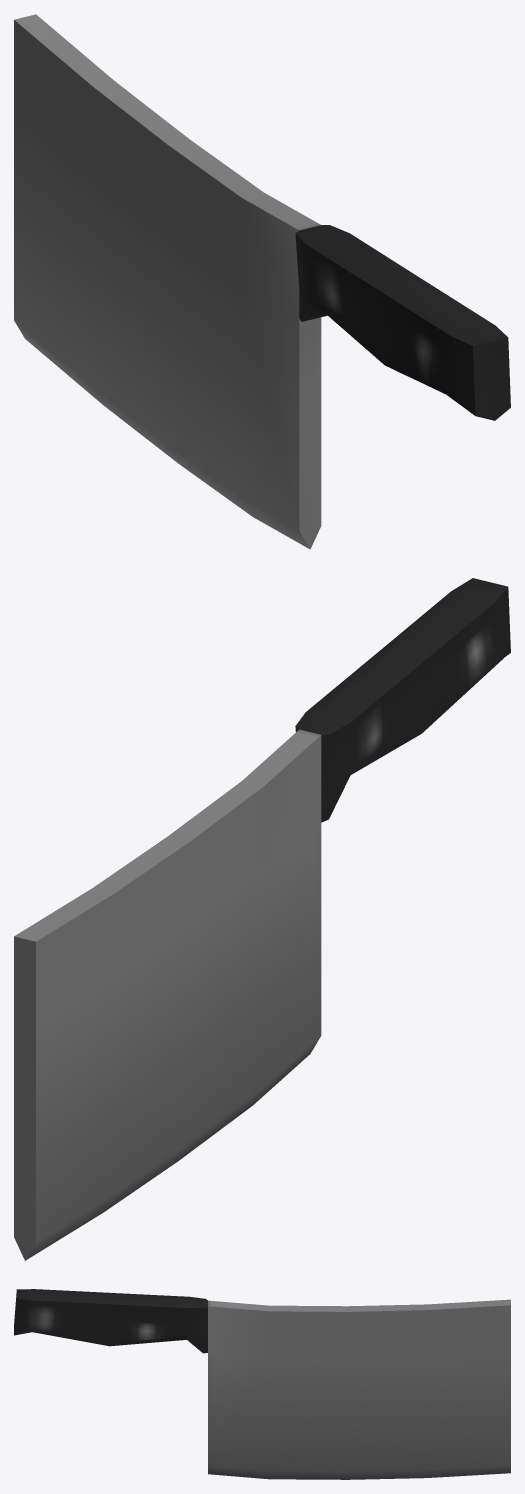
File: PROP_054_Knife_A.fbx
3 views of the same model, one above another, from view 1: azimuth 30°, elevation 25°; view 2: azimuth 150°, elevation 25°; view 3: azimuth 270°, elevation 25° (orthographic). The views are drawn at different scales.
Visible parts, largest first — view 1: Cube_003; view 2: Cube_003; view 3: Cube_003.
Boxes of the visible parts, box(x1,y1,x2,y2) form: Cube_003: box(14, 14, 510, 549); Cube_003: box(14, 578, 510, 1260); Cube_003: box(14, 1289, 510, 1479).
Size of the model in its own units: 0.0306 by 0.174 by 0.4168.
1 material, 1 textured.
